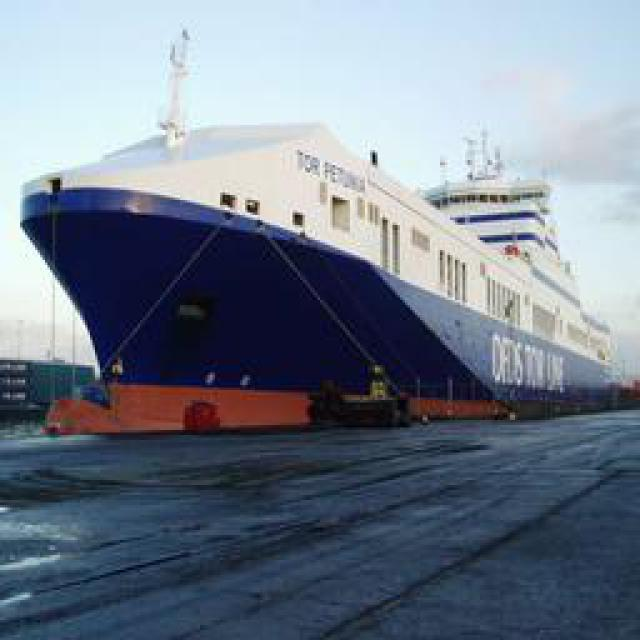Ship: (24, 107, 629, 430)
